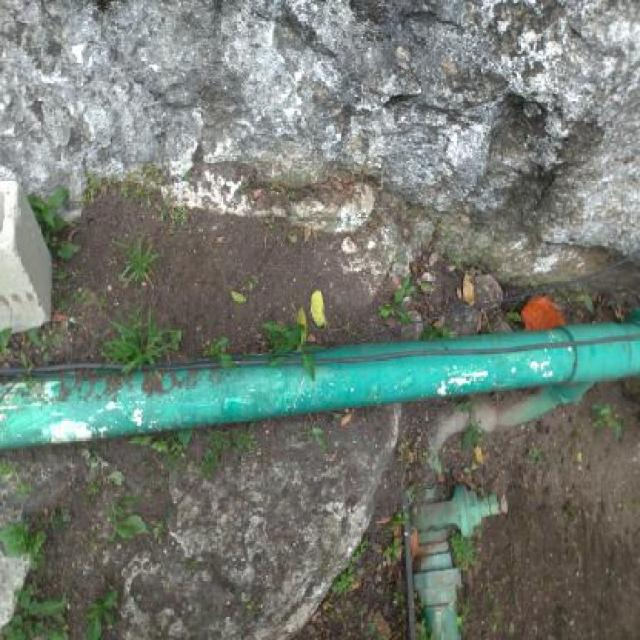gas: (2, 321, 640, 451)
